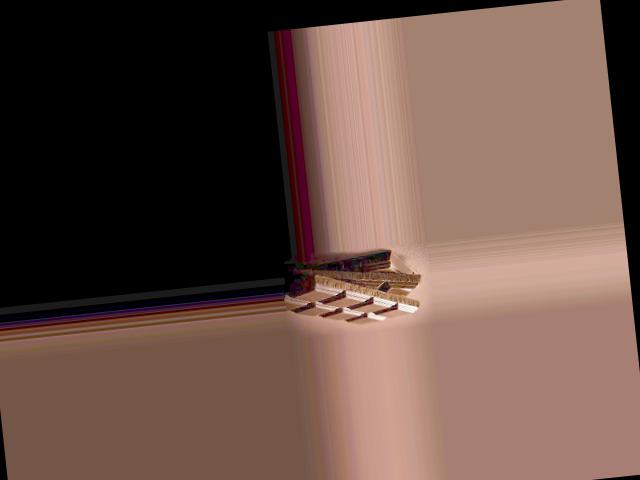chocolate: (285, 255, 424, 330)
